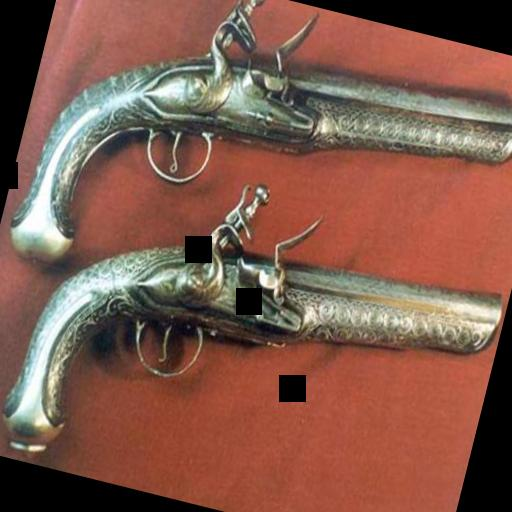Handgun: (0, 100, 512, 512), (2, 0, 512, 367)
